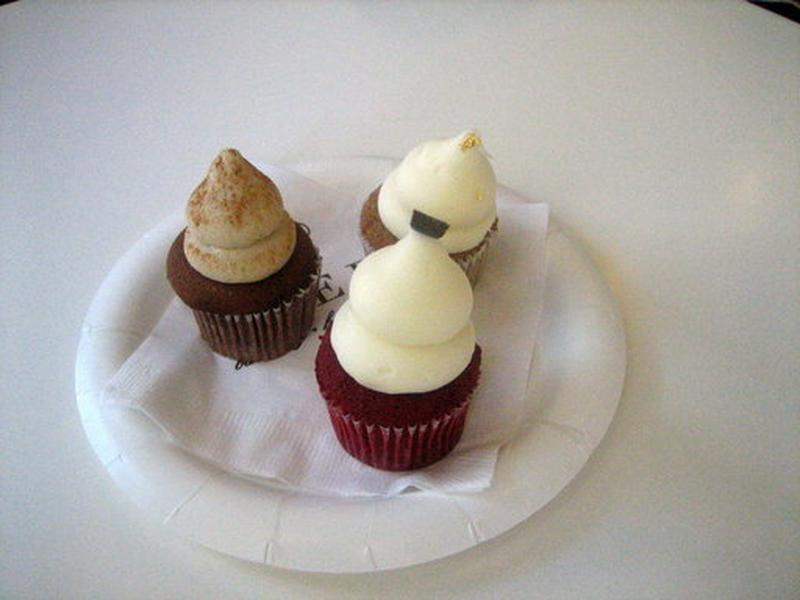cup_cake: (141, 128, 598, 535)
